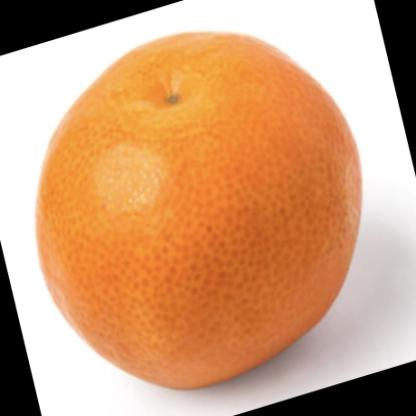fresh: (38, 33, 362, 391)
